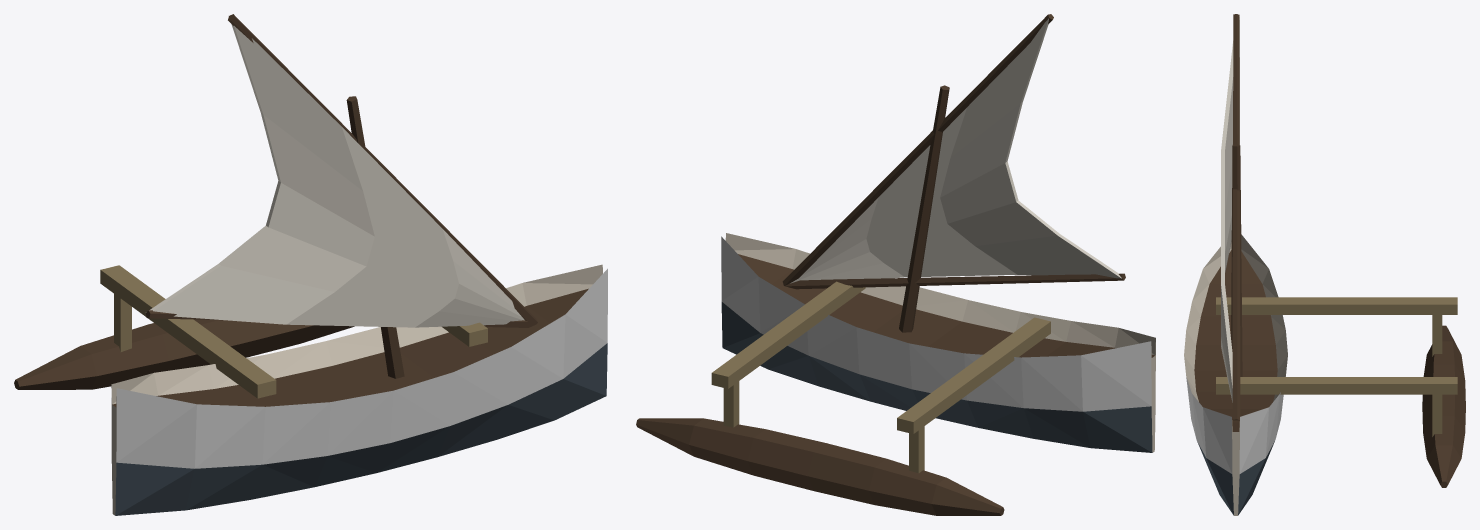
The model's file is outrigger.tidewater.glb.
3 renders of one model, left to right at view 1: azimuth 30°, elevation 25°; view 2: azimuth 150°, elevation 25°; view 3: azimuth 270°, elevation 25°, orthographic. The views are drawn at different scales.
Parts seen in each view (by area): view 1: sail, trim, hull, float, mast; view 2: sail, trim, float, hull, mast; view 3: float, trim, hull, mast, sail.
Part boxes in pixels (x1=…): sail: x1=146, y1=24, x2=524, y2=327; trim: x1=111, y1=264, x2=607, y2=515; hull: x1=116, y1=268, x2=607, y2=468; float: x1=14, y1=265, x2=487, y2=398; mast: x1=146, y1=14, x2=537, y2=378; sail: x1=790, y1=18, x2=1121, y2=283; trim: x1=721, y1=233, x2=1155, y2=452; float: x1=636, y1=281, x2=1050, y2=515; hull: x1=721, y1=236, x2=1151, y2=411; mast: x1=782, y1=14, x2=1125, y2=332; float: x1=1216, y1=297, x2=1465, y2=487; trim: x1=1184, y1=234, x2=1287, y2=515; hull: x1=1186, y1=377, x2=1283, y2=473; mast: x1=1231, y1=14, x2=1242, y2=420; sail: x1=1221, y1=14, x2=1239, y2=402.
Size of the model in its own units: 1.3 by 1.21 by 0.84.
